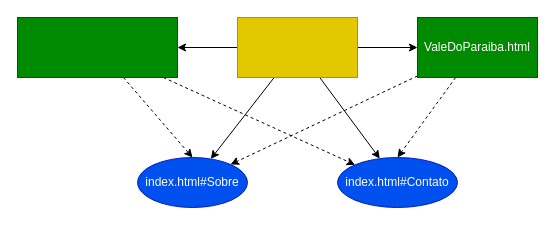
This 555x225 diagram has some shape labels left out. Here are the shapes that lost their labels. From the top down, the box of each, then its label:
(16, 16, 178, 78): EducacaoAmbiental.html
(236, 16, 358, 78): Index.html
